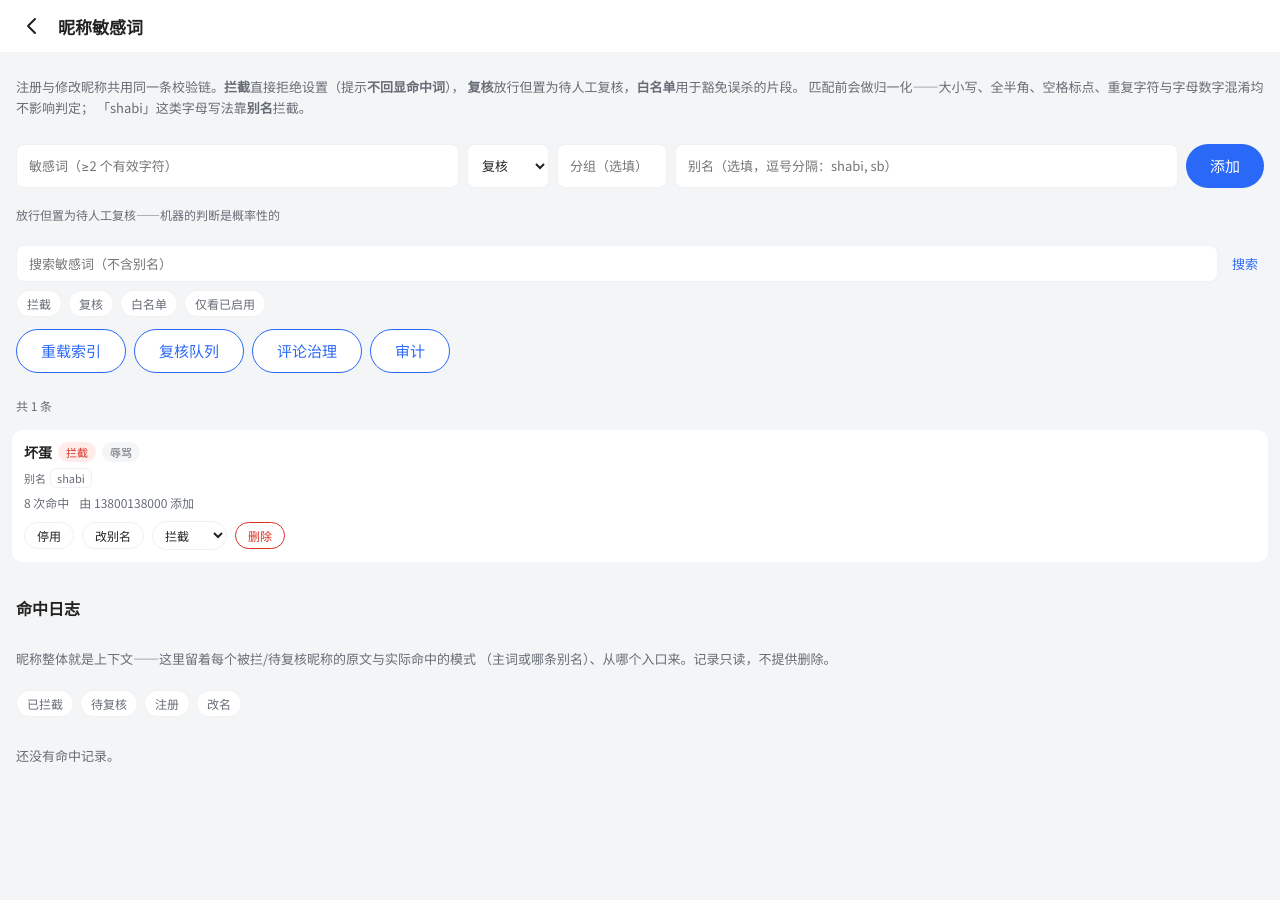
Scenario: views/AdminNicknameWords 新增与维护 › 改别名：展开编辑器预填当前别名，保存走 PATCH aliases
This screenshot has width=1280, height=900.
Click the button "改别名".
click(113, 535)  # box top-left (82, 522), bottom-right (144, 549)
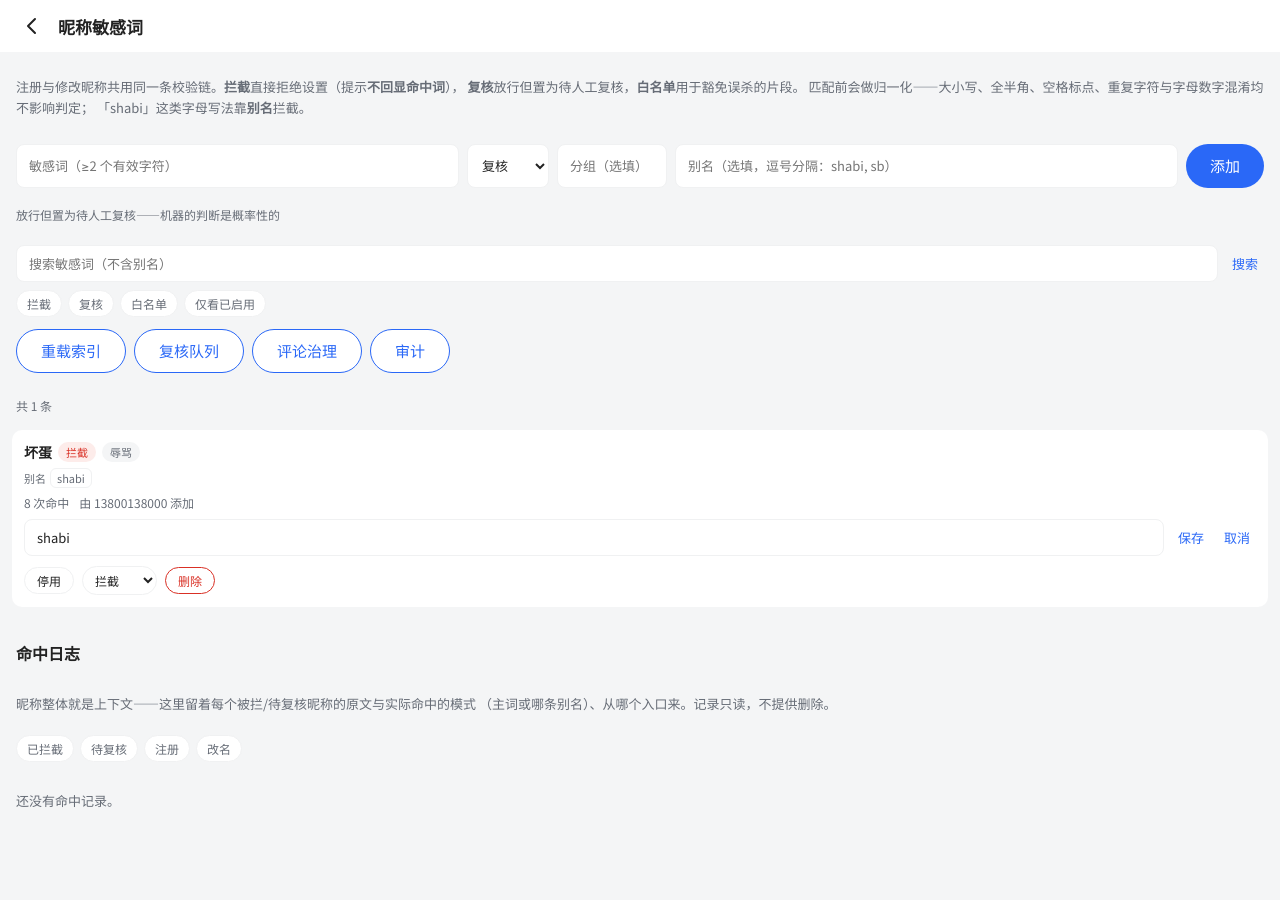
Check: the field named "编辑别名" holds "shabi"
Replace the text in the field named "编辑别名" with "shabi, sb，煞笔" at (594, 537), box top-left (24, 519), bottom-right (1164, 556)
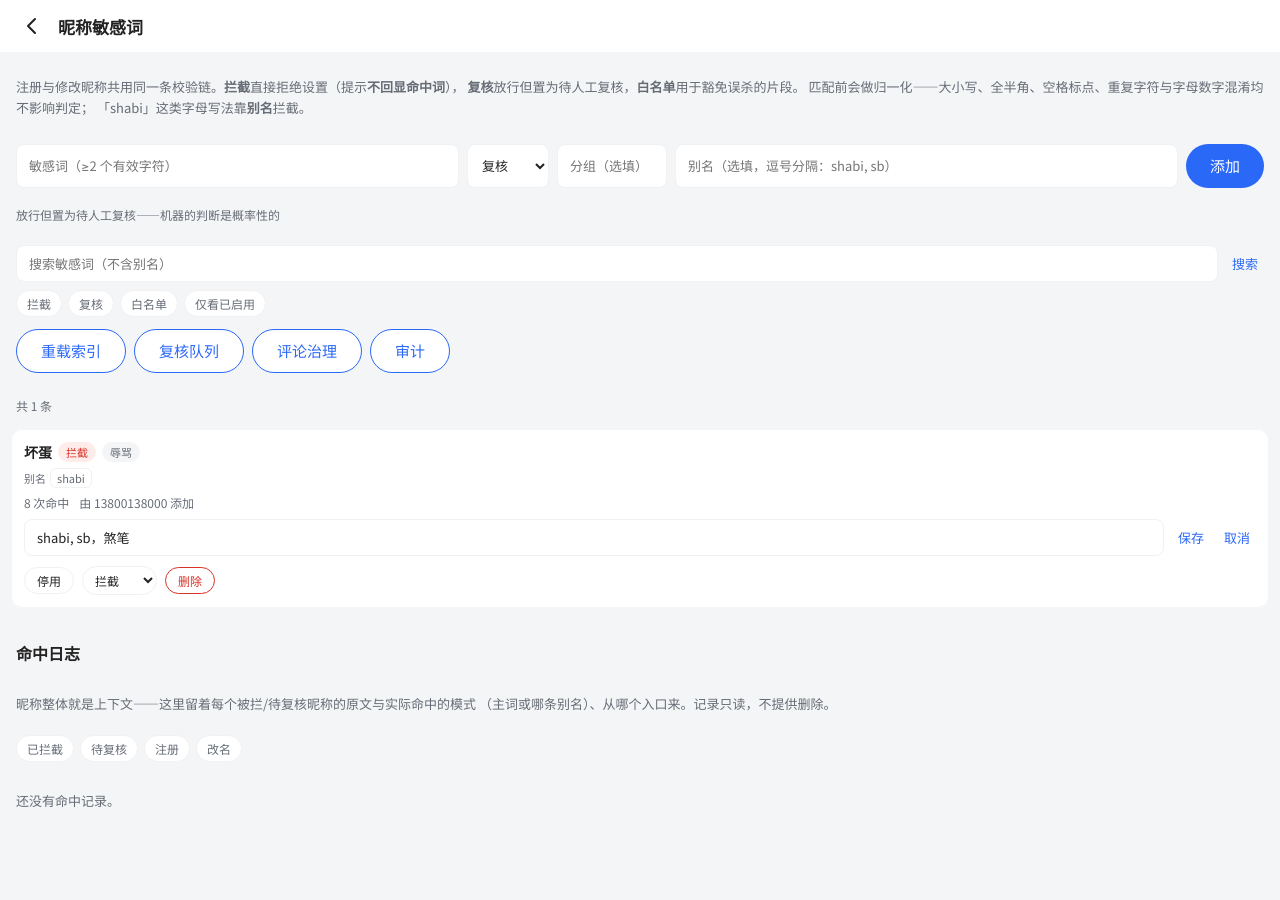
Press Enter in the field named "编辑别名", box top-left (24, 519), bottom-right (1164, 556)
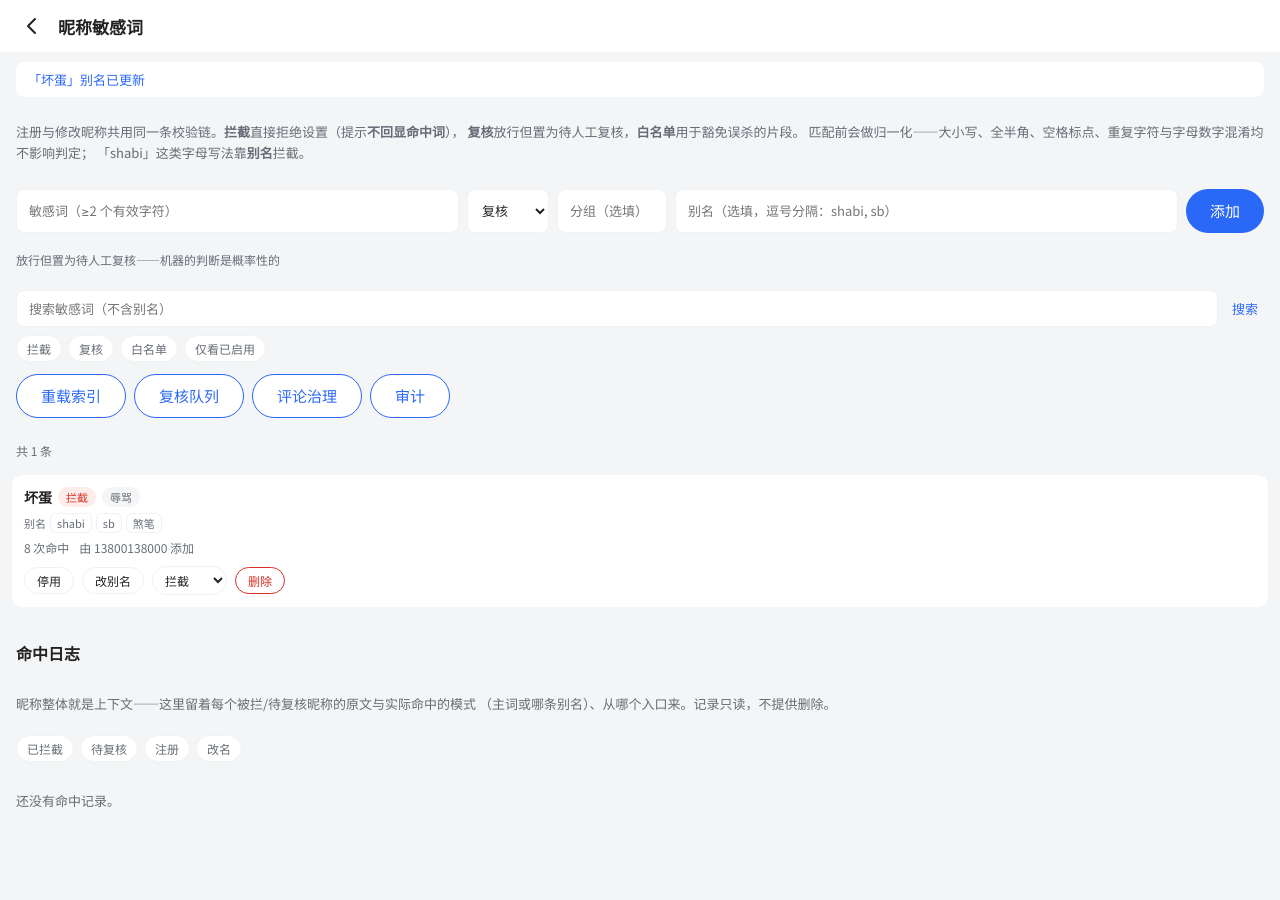
Check: the text "「坏蛋」别名已更新" is shown, box top-left (16, 62), bottom-right (1264, 97)
